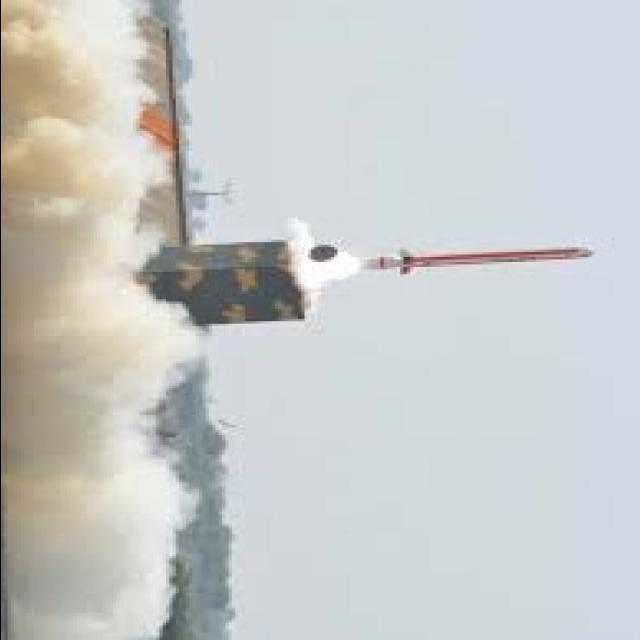missile: (370, 236, 601, 290)
